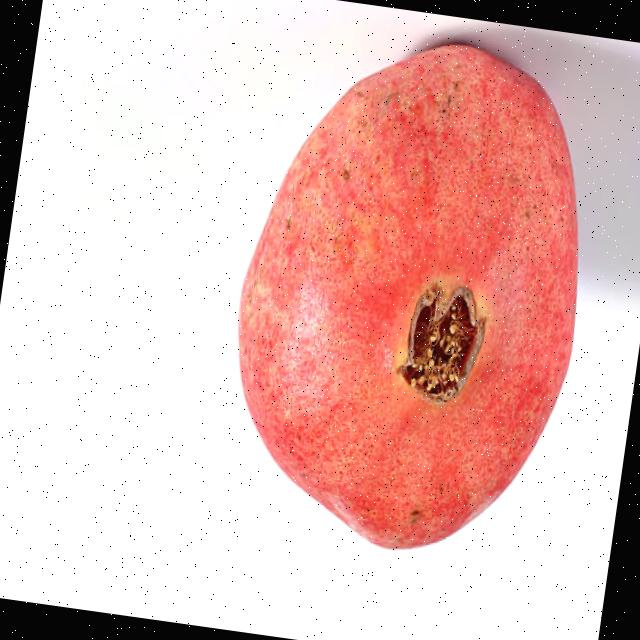Ripe: (205, 16, 616, 582)
